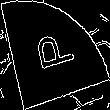P_W: (31, 31, 79, 79)
